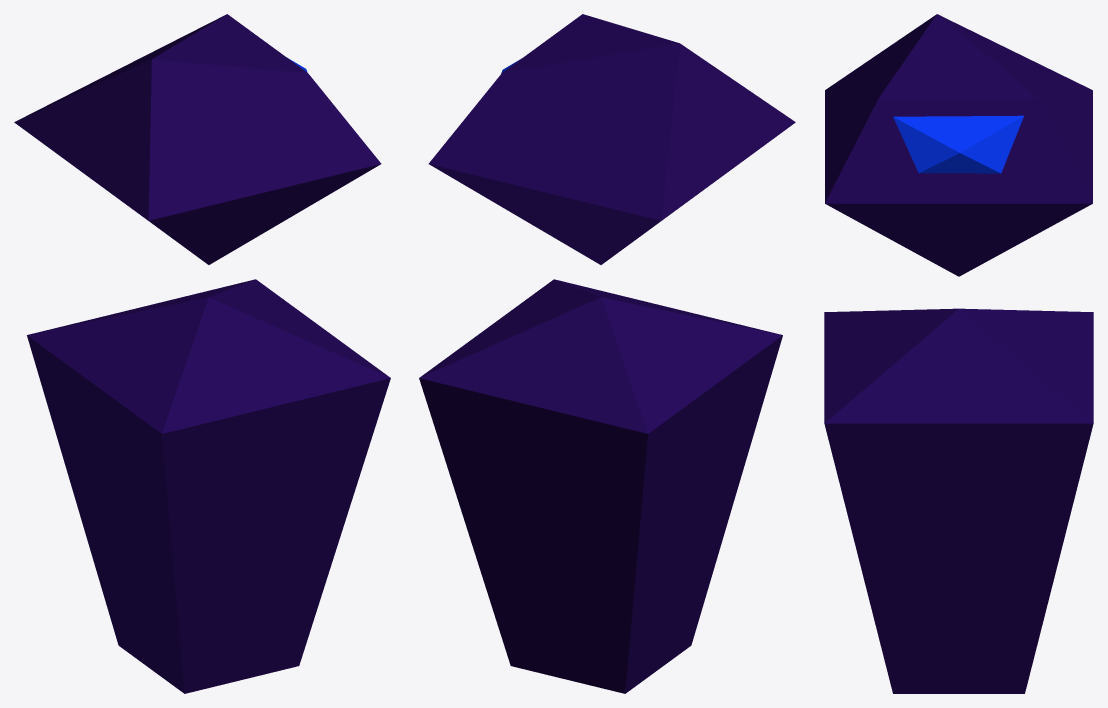
Rendered from Enemy 2 Model.fbx.
The picture shows the model from 3 angles, left to right: view 1: azimuth 30°, elevation 25°; view 2: azimuth 150°, elevation 25°; view 3: azimuth 270°, elevation 25°; orthographic projection.
Visible parts, largest first — view 1: Cube; view 2: Cube; view 3: Cube.
Part boxes in pixels (x1,y1,x2,y2): Cube: [14, 14, 390, 693]; Cube: [419, 14, 795, 693]; Cube: [824, 14, 1093, 693].
Bounding box in the file's own units: 423 × 1036 × 408.
